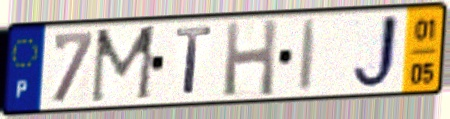7: (50, 28, 97, 106)
H: (221, 16, 280, 100)
I: (296, 16, 321, 95)
J: (349, 11, 402, 93)
M: (87, 23, 161, 107)
T: (174, 24, 215, 98)
